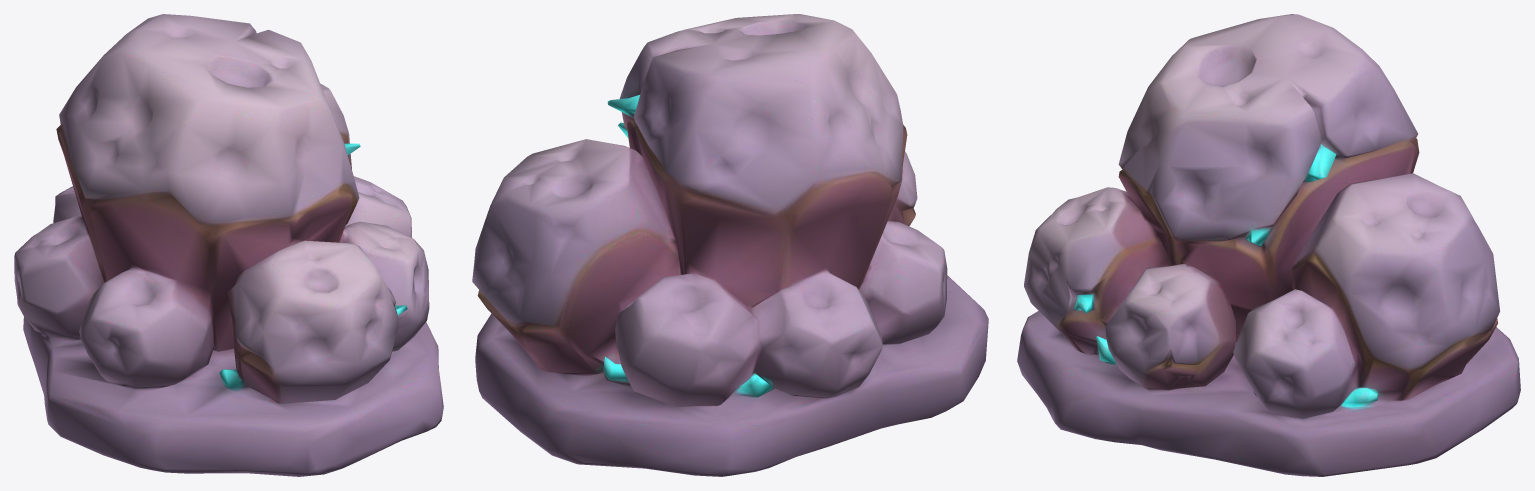
File: moon_rock_cluster.glb
3 renders of one model, left to right at view 1: azimuth 30°, elevation 25°; view 2: azimuth 150°, elevation 25°; view 3: azimuth 270°, elevation 25°, orthographic. The views are drawn at different scales.
Visible parts, largest first — view 1: moon_rock_cluster; view 2: moon_rock_cluster; view 3: moon_rock_cluster.
Boxes of the visible parts, <box> form: moon_rock_cluster: <box>14,14,443,476</box>; moon_rock_cluster: <box>472,14,988,476</box>; moon_rock_cluster: <box>1017,14,1520,476</box>.
Bounding box in the file's own units: 14.4 × 11.49 × 16.
1 material, 1 textured.
